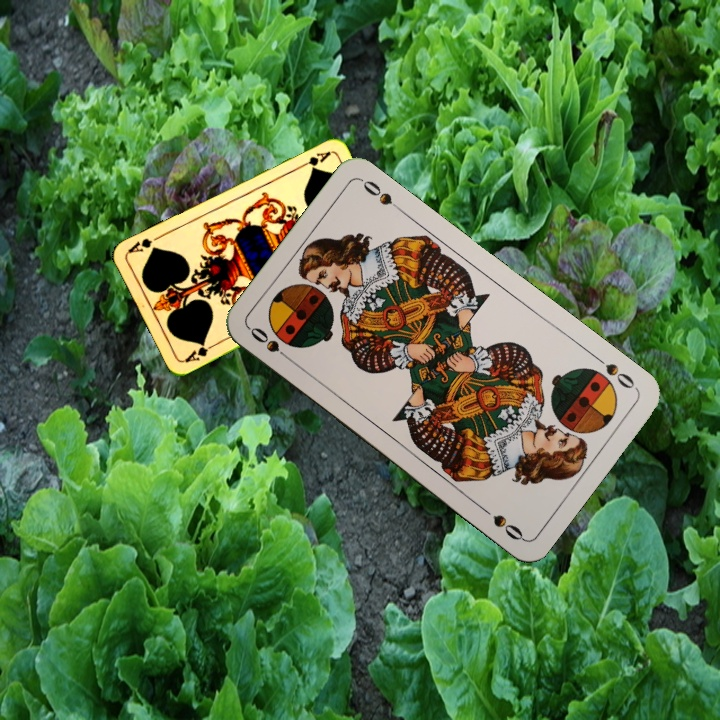GA: (180, 338, 218, 366), (294, 147, 333, 171)
SO: (246, 323, 296, 366), (589, 351, 639, 392)
